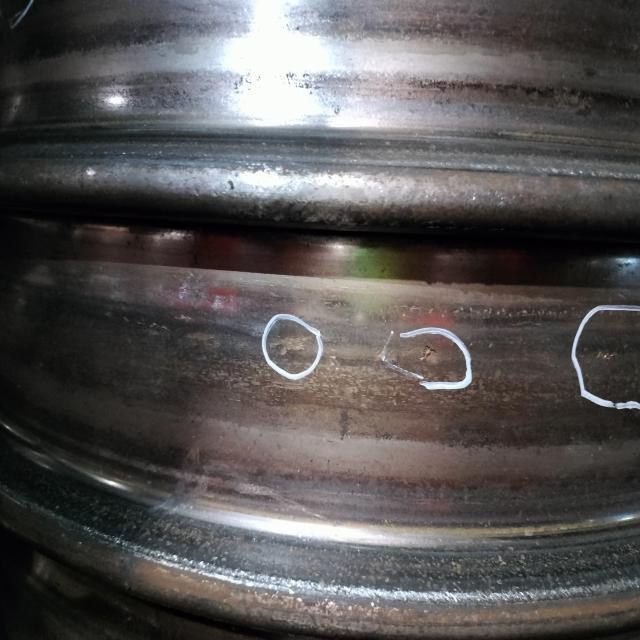Blue hole: (406, 345, 441, 368), (597, 347, 619, 364)
